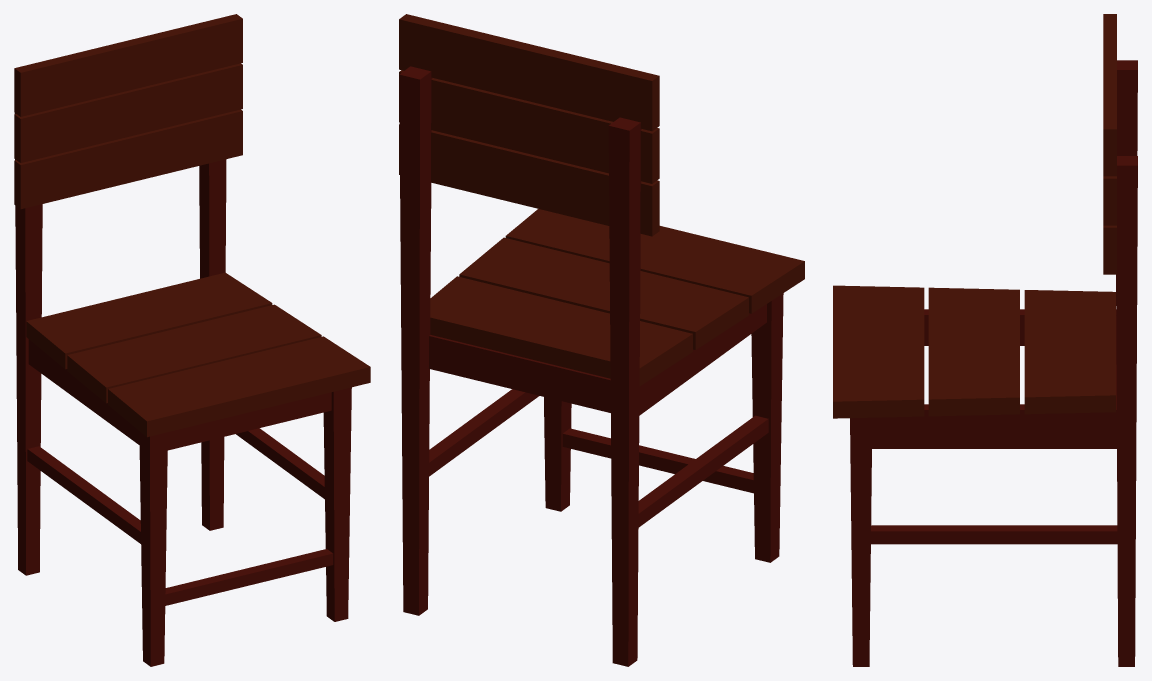
File: Cadeira - Madeira.fbx
3 views of the same model, side by side, from view 1: azimuth 30°, elevation 25°; view 2: azimuth 150°, elevation 25°; view 3: azimuth 270°, elevation 25° (orthographic). The views are drawn at different scales.
Parts seen in each view (by area): view 1: Cadeira; view 2: Cadeira; view 3: Cadeira.
Boxes of the visible parts, x1,y1,x2,y2 form: Cadeira: (14, 14, 370, 666); Cadeira: (399, 14, 804, 666); Cadeira: (833, 14, 1137, 666).
Size of the model in its own units: 48.66 by 106 by 53.98.
